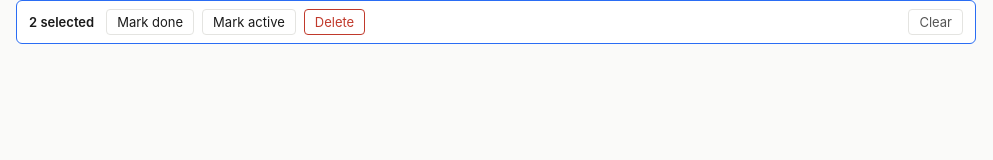
Scenario: BatchActionBar › Mark active surfaces a cap error and keeps the selection
The width and height of the screenshot is (993, 160).
Click the button "Mark active".
click(249, 22)  # box [202,9,296,35]
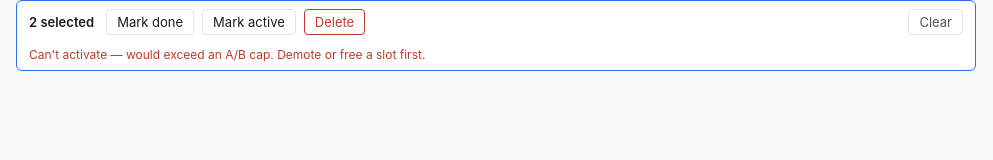
Expected: the text "exceed an A/B cap" is shown, [29,47,425,62]
